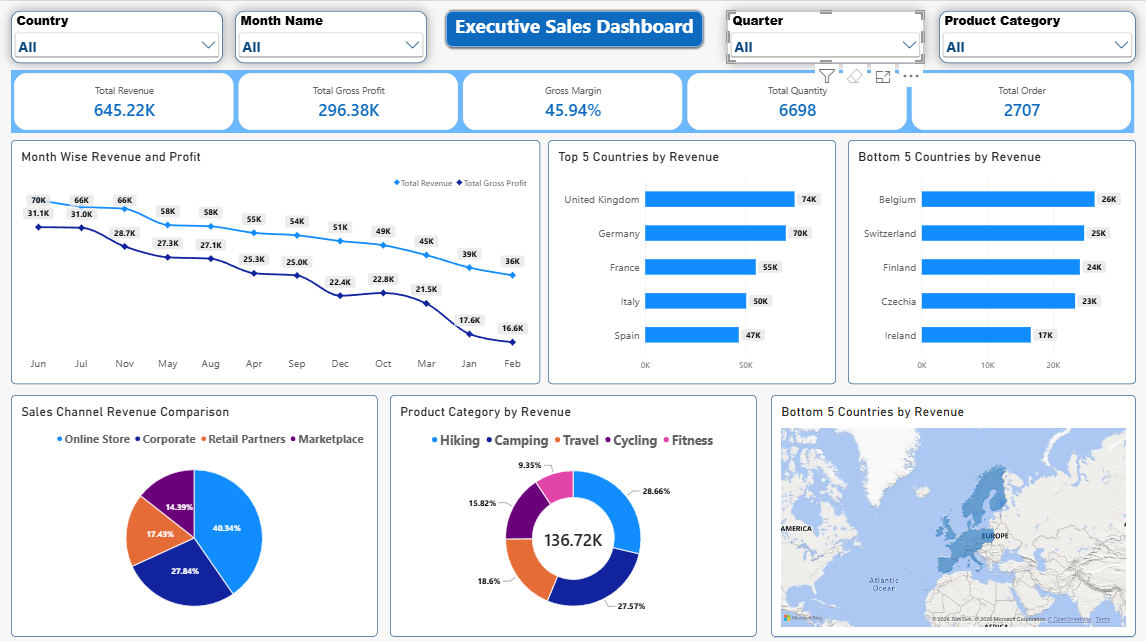

The page's visual inventory and layout, read from the dashboard file:
{"tool":"powerbi","page":{"name":"Page 1","canvas":[1920,1080],"ordinal":0},"visuals":[{"type":"cardVisual","fields":{"Data":["All_Measures.Total Revenue","All_Measures.Total_Gross_Profit","All_Measures.Gross Margin","All_Measures.Total_Quantity","All_Measures.Total Order"]},"box":[20,115,1875,105],"z":0},{"type":"pieChart","title":"Sales Channel Revenue Comparison","fields":{"Category":["Sales_Data.Sales Channel"],"Y":["All_Measures.Total Revenue"]},"box":[20,656.7,610.7,403.3],"z":1000},{"type":"slicer","fields":{"Values":["Sales_Data.Country"]},"box":[20,16.7,353.3,86.7],"z":2000},{"type":"textbox","box":[745,16.7,428,60],"z":2000},{"type":"slicer","fields":{"Values":["Date Table.Month_Name"]},"box":[393.3,16.7,320,86.7],"z":3000},{"type":"donutChart","title":"Product Category by Revenue","fields":{"Category":["Sales_Data.Product Category"],"Y":["All_Measures.Total Gross Profit"]},"box":[651.9,656.7,610.7,403.3],"z":3000},{"type":"slicer","fields":{"Values":["Date Table.Quarter"]},"box":[1213.3,16.7,328.3,86.7],"z":4000},{"type":"slicer","fields":{"Values":["Sales_Data.Product Category"]},"box":[1566.7,16.7,328.3,86.7],"z":5000},{"type":"filledMap","title":"Bottom 5 Countries by Revenue","fields":{"Category":["Sales_Data.Country"]},"box":[1286.7,656.7,608.3,403.3],"z":5000},{"type":"lineChart","title":"Month Wise Revenue and Profit","fields":{"Category":["Date Table.Month Name"],"Y":["All_Measures.Total Revenue"],"Y2":["All_Measures.Total Gross Profit"]},"box":[20,231.7,881.7,406.7],"z":6000},{"type":"clusteredBarChart","title":"Top 5 Countries by Revenue","fields":{"Category":["Sales_Data.Country"],"Y":["All_Measures.Total Revenue"]},"box":[915,231.7,480,406.7],"z":7000},{"type":"clusteredBarChart","title":"Bottom 5 Countries by Revenue","fields":{"Category":["Sales_Data.Country"],"Y":["All_Measures.Total Revenue"]},"box":[1415,231.7,480,406.7],"z":8000}]}

Visuals, with their boxes in screenshot pixels (x1, y1, x2, y2), scaled from the page's 1920x1080 canvas onto the 1146x641 screenshot:
cardVisual - All_Measures.Total Revenue x All_Measures.Total_Gross_Profit: {"left": 12, "top": 68, "right": 1131, "bottom": 131}
"Sales Channel Revenue Comparison" pieChart: {"left": 12, "top": 390, "right": 376, "bottom": 629}
slicer - Sales_Data.Country: {"left": 12, "top": 10, "right": 223, "bottom": 61}
textbox: {"left": 445, "top": 10, "right": 700, "bottom": 46}
slicer - Date Table.Month_Name: {"left": 235, "top": 10, "right": 426, "bottom": 61}
"Product Category by Revenue" donutChart: {"left": 389, "top": 390, "right": 754, "bottom": 629}
slicer - Date Table.Quarter: {"left": 724, "top": 10, "right": 920, "bottom": 61}
slicer - Sales_Data.Product Category: {"left": 935, "top": 10, "right": 1131, "bottom": 61}
"Bottom 5 Countries by Revenue" filledMap: {"left": 768, "top": 390, "right": 1131, "bottom": 629}
"Month Wise Revenue and Profit" lineChart: {"left": 12, "top": 138, "right": 538, "bottom": 379}
"Top 5 Countries by Revenue" clusteredBarChart: {"left": 546, "top": 138, "right": 833, "bottom": 379}
"Bottom 5 Countries by Revenue" clusteredBarChart: {"left": 845, "top": 138, "right": 1131, "bottom": 379}
